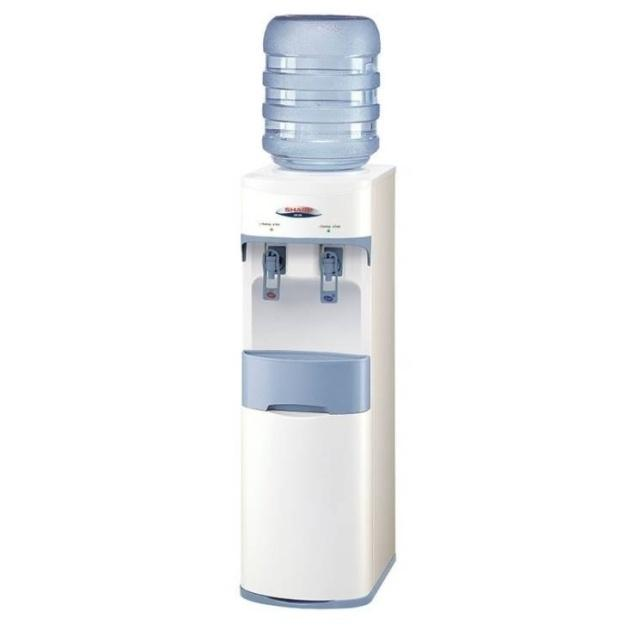Dispenser: (238, 14, 397, 608)
